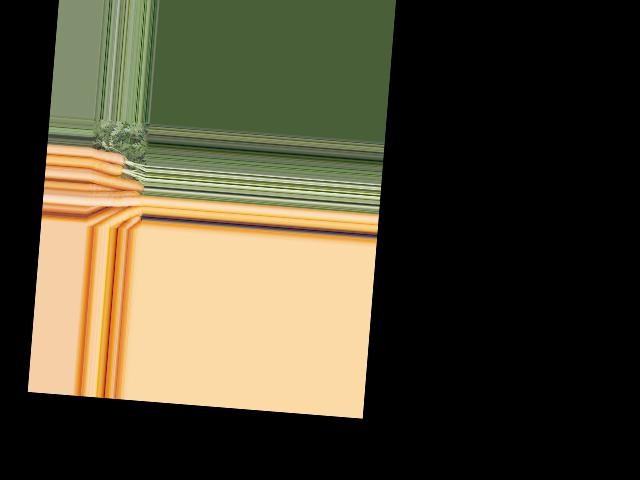carrot: (97, 204, 141, 229)
